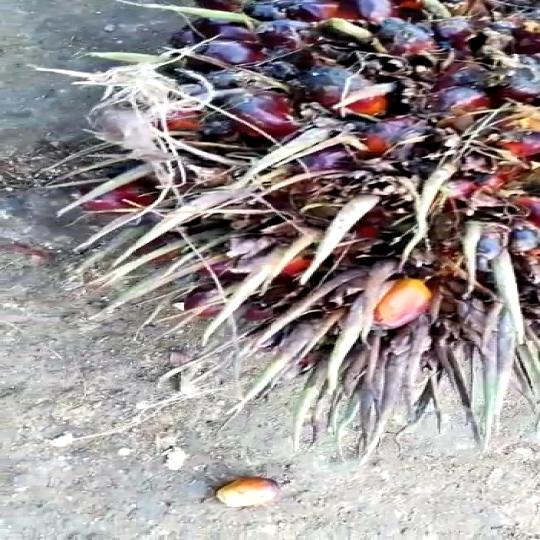masak: (65, 0, 540, 410)
